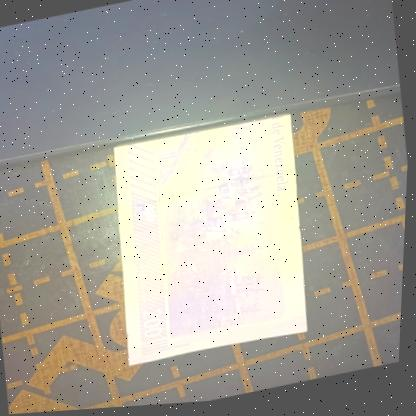vef_back: (101, 112, 323, 372)
